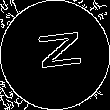N_W: (28, 32, 82, 78)
